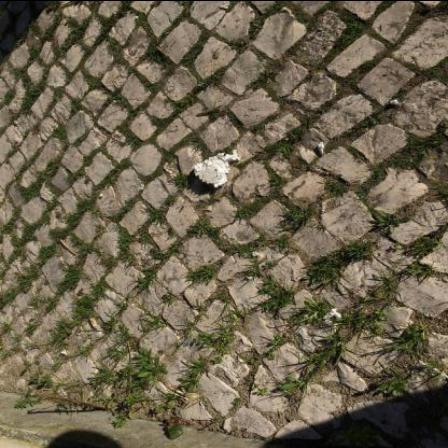Styrofoam piece: (193, 150, 243, 188), (333, 310, 343, 319), (319, 143, 325, 155), (391, 100, 400, 105), (252, 251, 259, 257)
